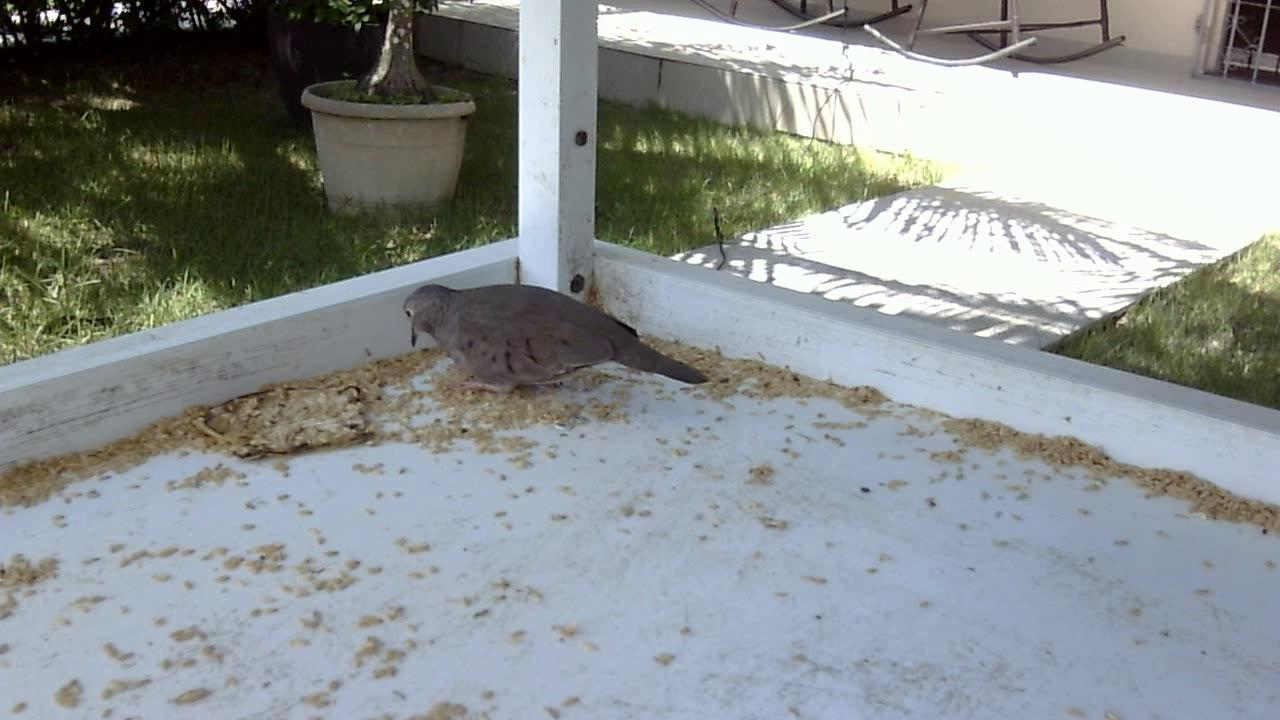rolinha: (395, 270, 709, 404)
